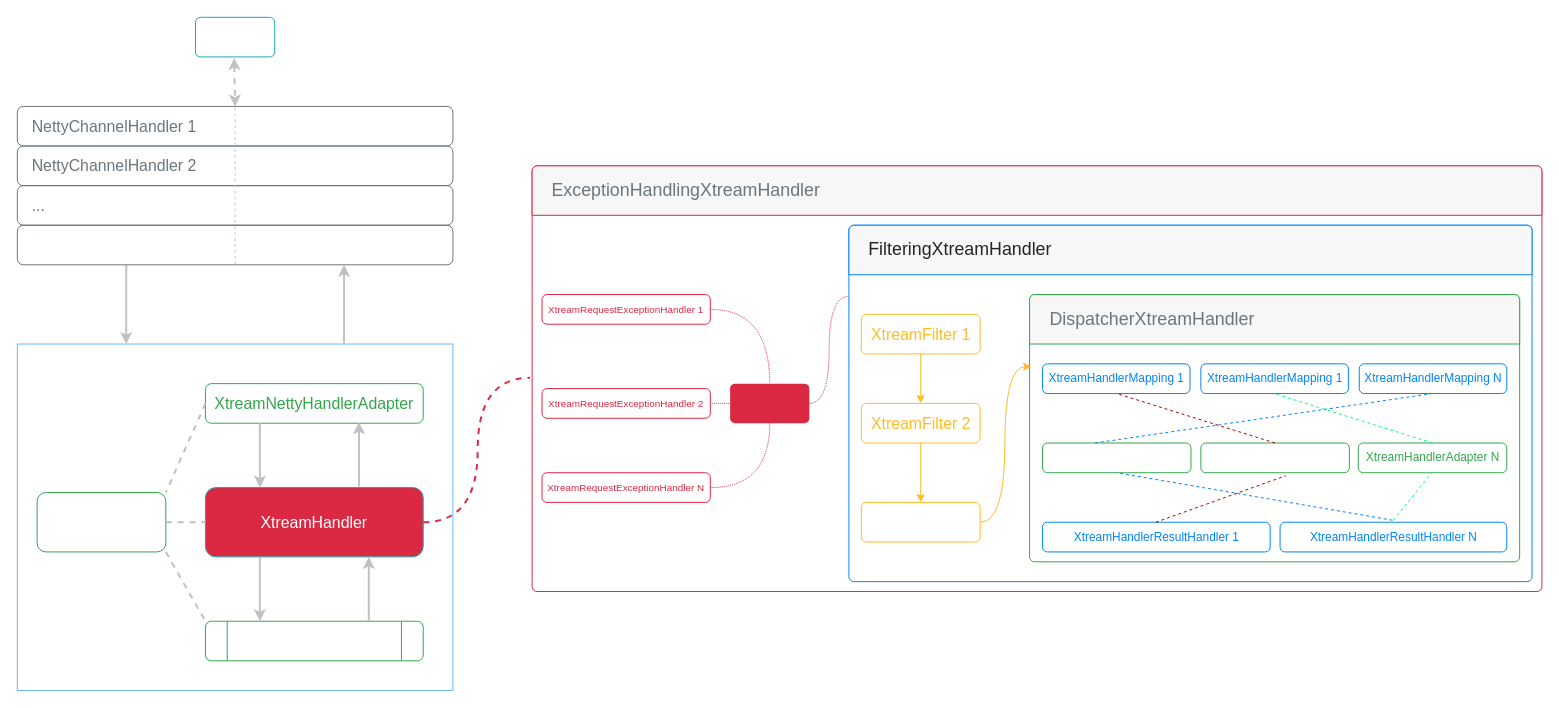
This 1559x708 diagram has some shape labels left out. Here are the shapes that lost their labels. From the top down, the centre of each, then its label:
point 235,36: 客户端
point 234,244: NettyChannelHandler N
point 769,403: 异常
point 1116,457: XtreamHandlerAdapter 1
point 1274,457: XtreamHandlerAdapter 2
point 101,522: Xtream SessionManager
point 920,521: XtreamFilter N
point 313,640: 业务处理
